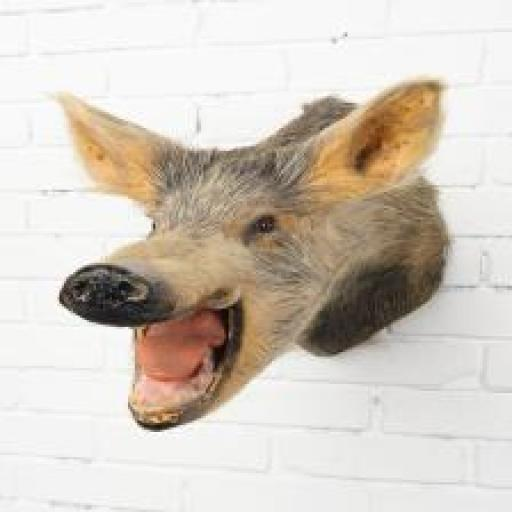Pig: (46, 78, 450, 434)
